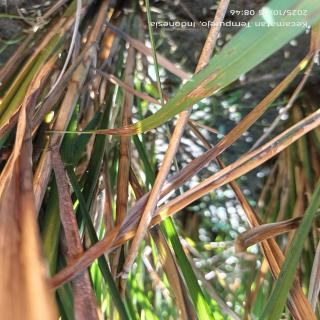Bercak-Cokelat-Sempit: (175, 66, 224, 107)
